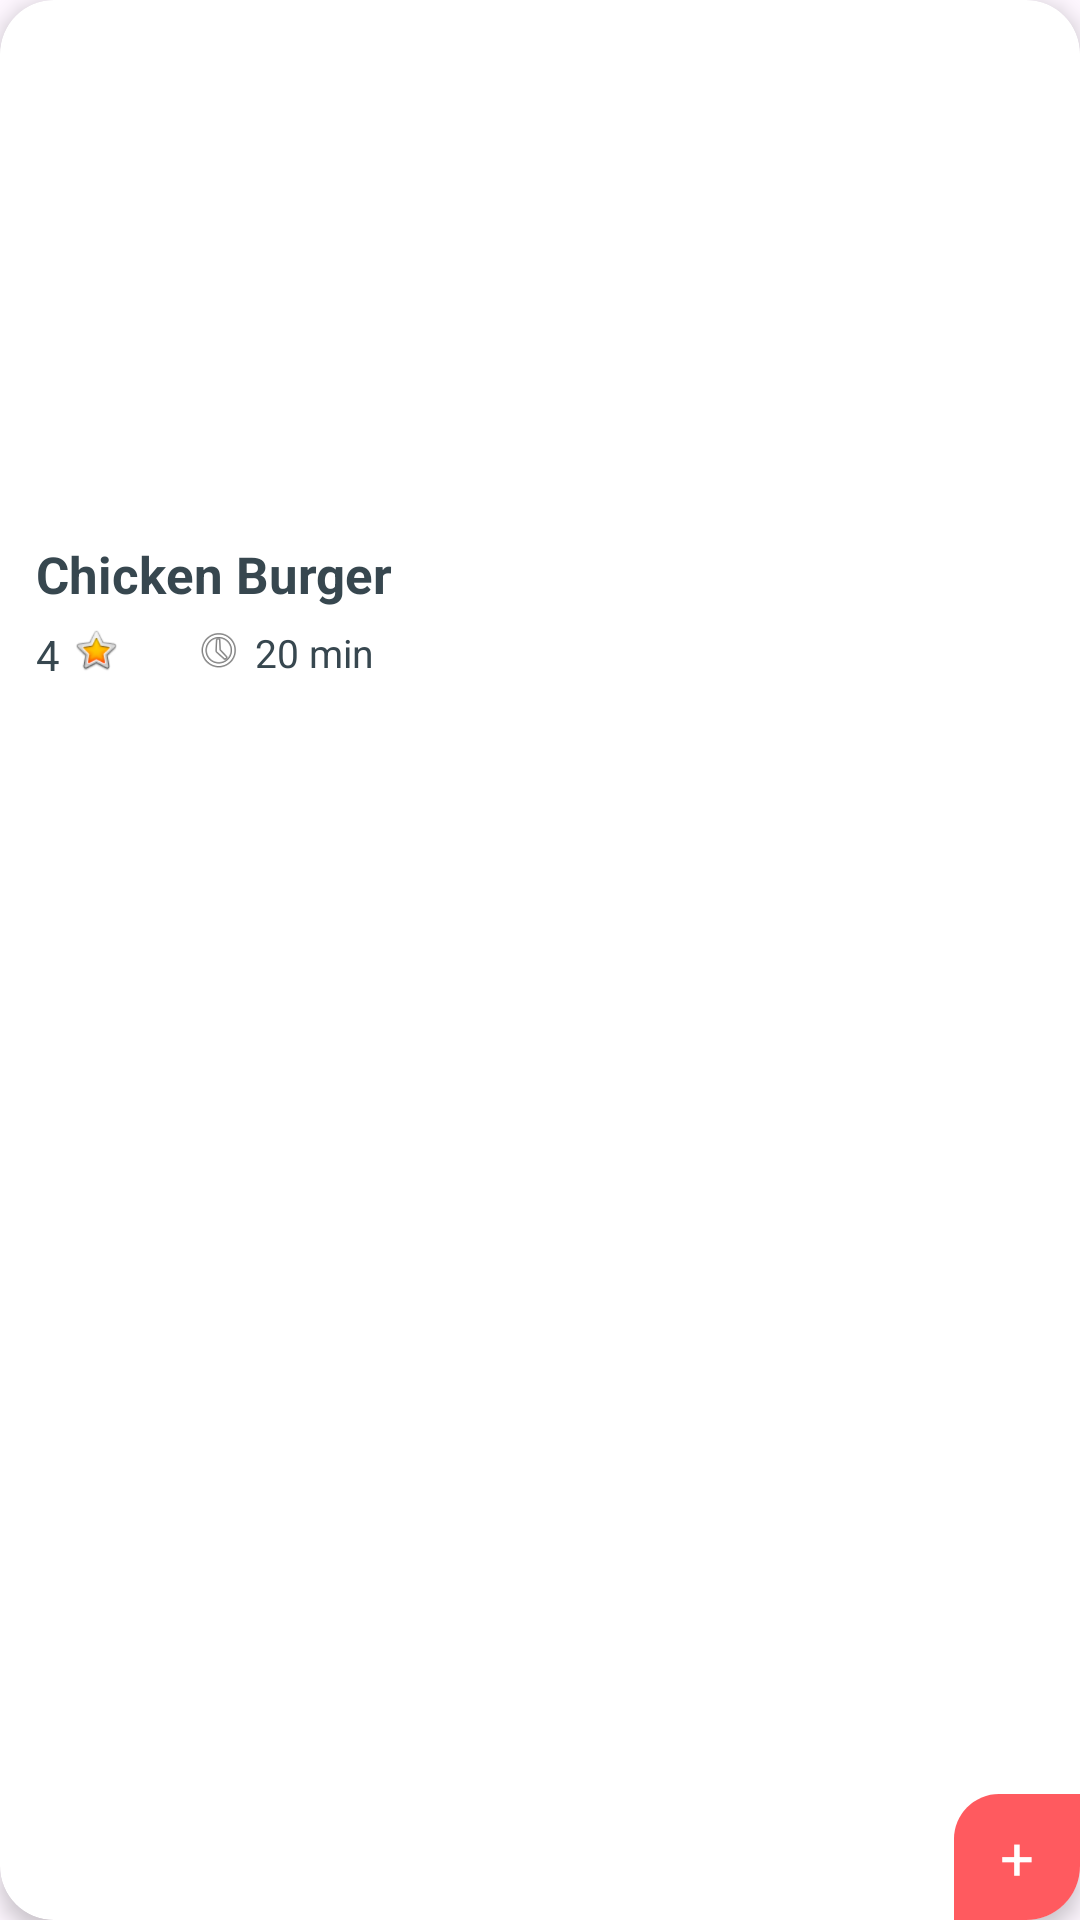

Named icons in this screenshot (1080*1920) and their bounding boxes, (x1, y1, x2, y2):
recent history: (201, 633, 236, 668)
star on: (76, 631, 116, 670)
